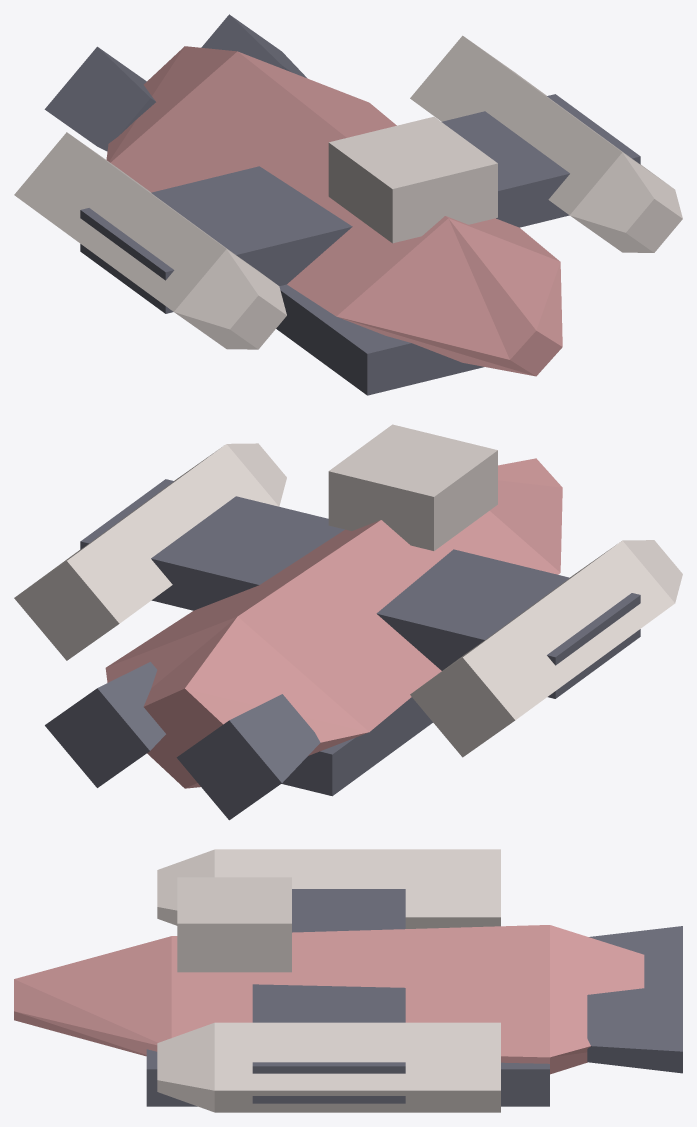
3 renders of one model, top to bottom at view 1: azimuth 30°, elevation 25°; view 2: azimuth 150°, elevation 25°; view 3: azimuth 270°, elevation 25°, orthographic. The views are drawn at different scales.
Size of the model in its own units: 5.38 by 1.99 by 6.93.
